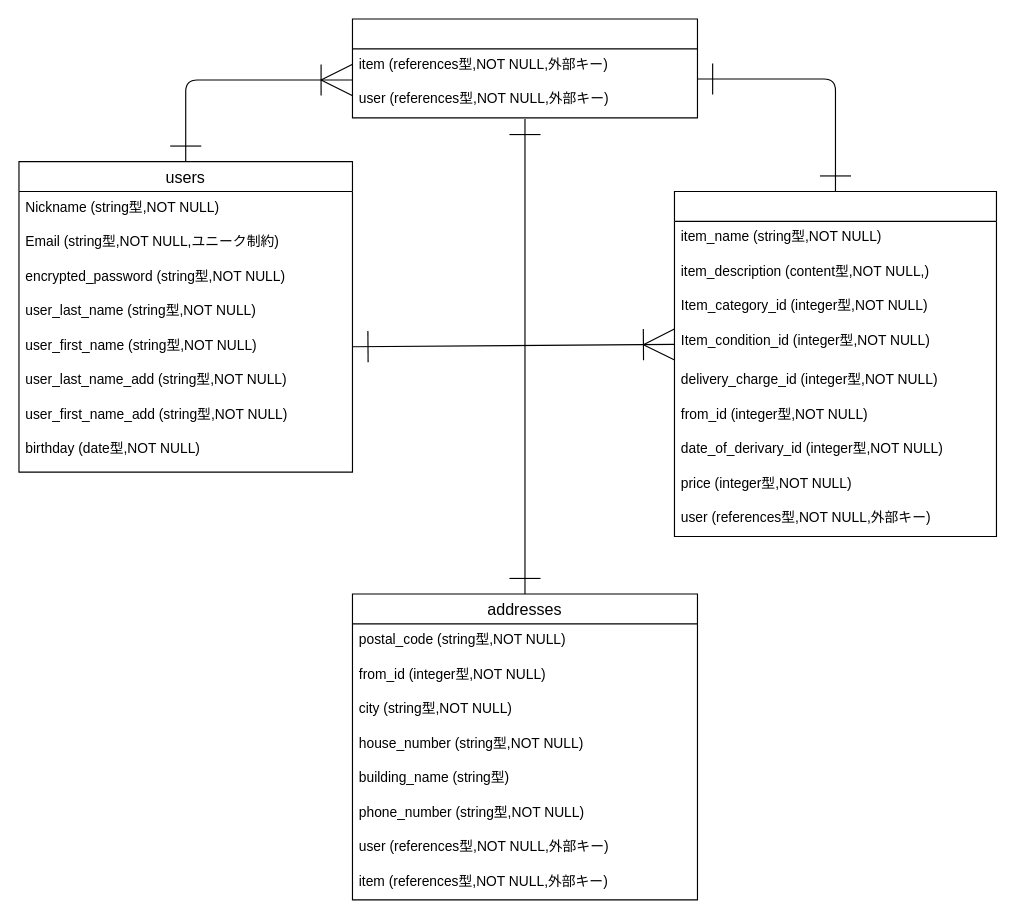
The diagram is 1015 pixels wide and 919 high, and some of its shapes have lost their labels. The shapes that lost their labels are listed below. From the top down, each one's box as (x1, y1, x2, y2) in pixels, then its label:
(351, 18, 697, 118): orders
(673, 190, 996, 536): itmes
